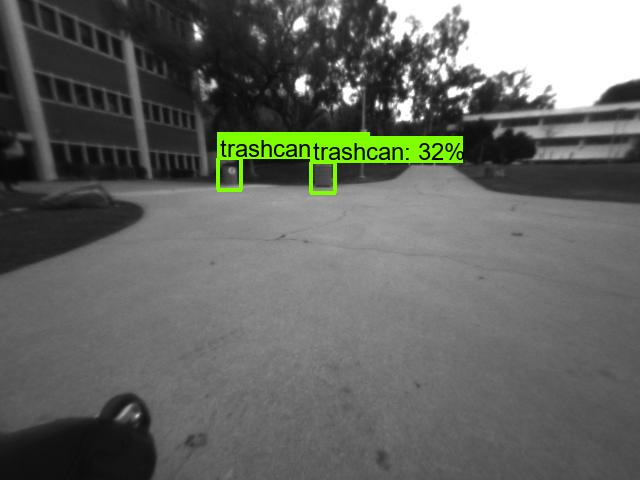trashcan: (311, 161, 335, 191), (221, 160, 242, 189)
